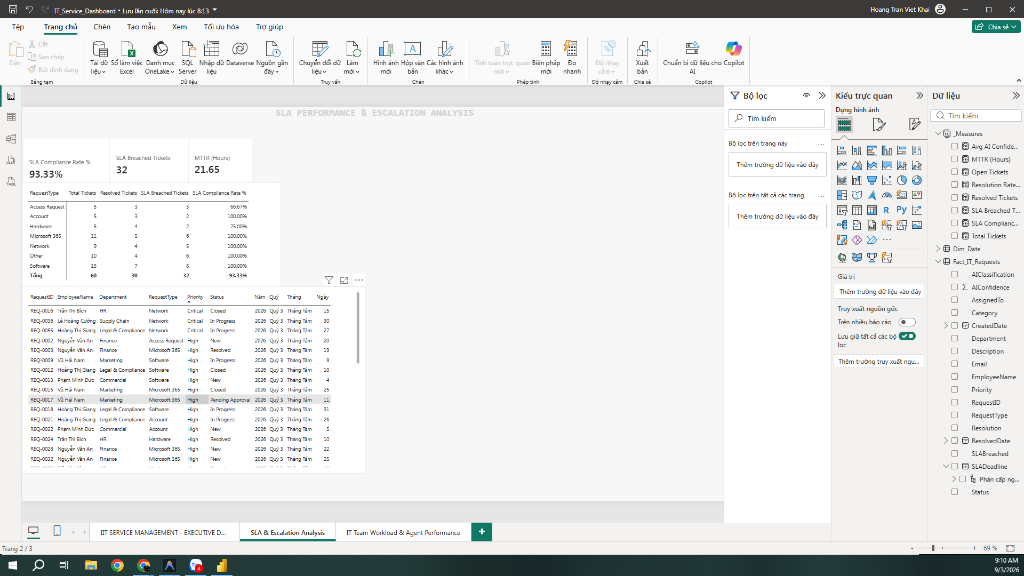

The page's visual inventory and layout, read from the dashboard file:
{"tool":"powerbi","page":{"name":"SLA & Escalation Analysis","canvas":[1920,1080],"ordinal":1},"visuals":[{"type":"textbox","box":[10.2,0,1909.8,68.6],"z":0},{"type":"cardVisual","fields":{"Data":["_Measures.SLA Compliance Rate %"]},"box":[2.9,84.6,237.8,172.2],"z":1000},{"type":"cardVisual","fields":{"Data":["_Measures.SLA Breached Tickets"]},"box":[240.7,84.6,224.7,150.3],"z":2000},{"type":"cardVisual","fields":{"Data":["_Measures.MTTR (Hours)"]},"box":[455.2,84.6,175.1,148.8],"z":3000},{"type":"pivotTable","fields":{"Rows":["Fact_IT_Requests.RequestType"],"Values":["_Measures.Total Tickets","_Measures.Resolved Tickets","_Measures.SLA Breached Tickets","_Measures.SLA Compliance Rate %"]},"box":[0,207.2,709.1,322.4],"z":4000},{"type":"tableEx","fields":{"Values":["Fact_IT_Requests.RequestID","Fact_IT_Requests.EmployeeName","Fact_IT_Requests.Department","Fact_IT_Requests.RequestType","Fact_IT_Requests.Priority","Fact_IT_Requests.Status","Fact_IT_Requests.SLADeadline.Biến động.Phân cấp ngày tháng.Năm","Fact_IT_Requests.SLADeadline.Biến động.Phân cấp ngày tháng.Quý","Fact_IT_Requests.SLADeadline.Biến động.Phân cấp ngày tháng.Tháng","Fact_IT_Requests.SLADeadline.Biến động.Phân cấp ngày tháng.Ngày"]},"box":[0,491.7,941,512.1],"z":5000}]}

Visuals, with their boxes on the page's 1920x1080 design canvas (x1, y1, x2, y2). These are canvas units, not pixel positions in the 1024x576 screenshot, which may show the page scaled, cropped or inside an application window:
textbox: <bbox>10, 0, 1920, 69</bbox>
cardVisual - _Measures.SLA Compliance Rate %: <bbox>3, 85, 241, 257</bbox>
cardVisual - _Measures.SLA Breached Tickets: <bbox>241, 85, 465, 235</bbox>
cardVisual - _Measures.MTTR (Hours): <bbox>455, 85, 630, 233</bbox>
pivotTable - Fact_IT_Requests.RequestType x _Measures.Total Tickets: <bbox>0, 207, 709, 530</bbox>
tableEx - Fact_IT_Requests.RequestID x Fact_IT_Requests.EmployeeName: <bbox>0, 492, 941, 1004</bbox>
